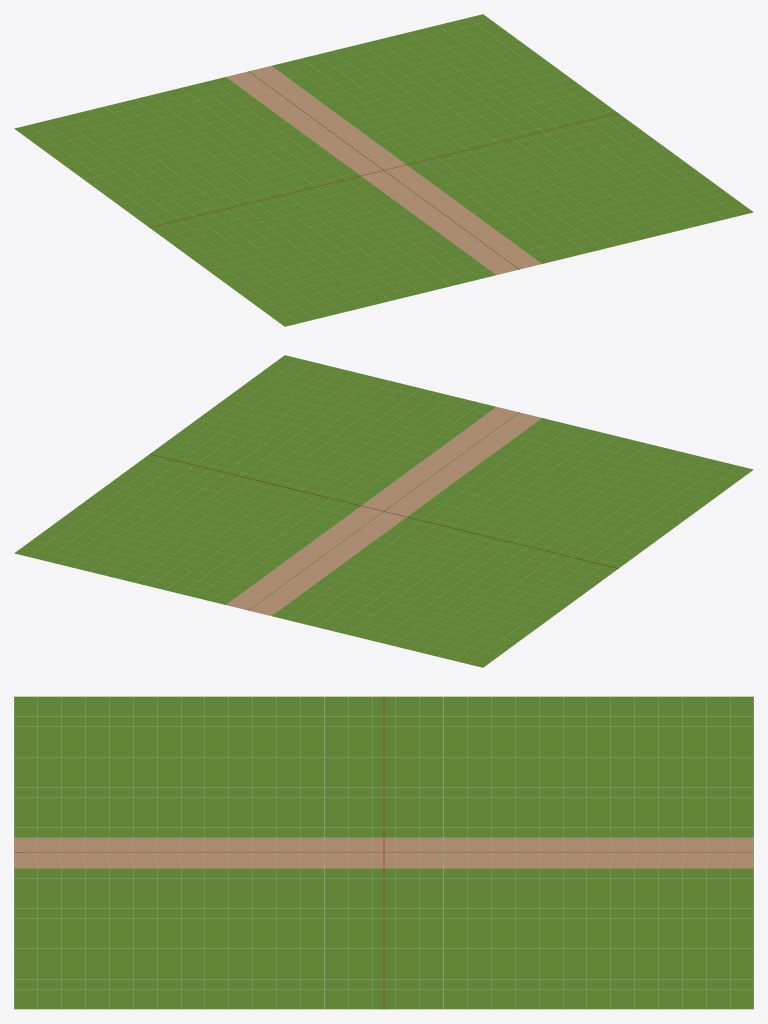
Rendered from ground.glb.
The picture shows the model from 3 angles, top to bottom: view 1: azimuth 30°, elevation 25°; view 2: azimuth 150°, elevation 25°; view 3: azimuth 270°, elevation 25°; orthographic projection. The views are drawn at different scales.
Visible parts, largest first — view 1: Grass, Wireframe; view 2: Grass, Wireframe; view 3: Grass, Wireframe, Y-Axis, X-Axis.
Part boxes in pixels (x1,y1,x2,y2): Grass: (14,14,753,326); Wireframe: (23,14,744,326); Grass: (14,355,753,667); Wireframe: (23,355,744,667); Grass: (14,696,753,1009); Wireframe: (14,696,753,1009); Y-Axis: (14,852,753,852); X-Axis: (383,696,384,1009).
Bounding box in the file's own units: 400 × 0.3794 × 400.
Materials: 1 (1 with a texture image).
